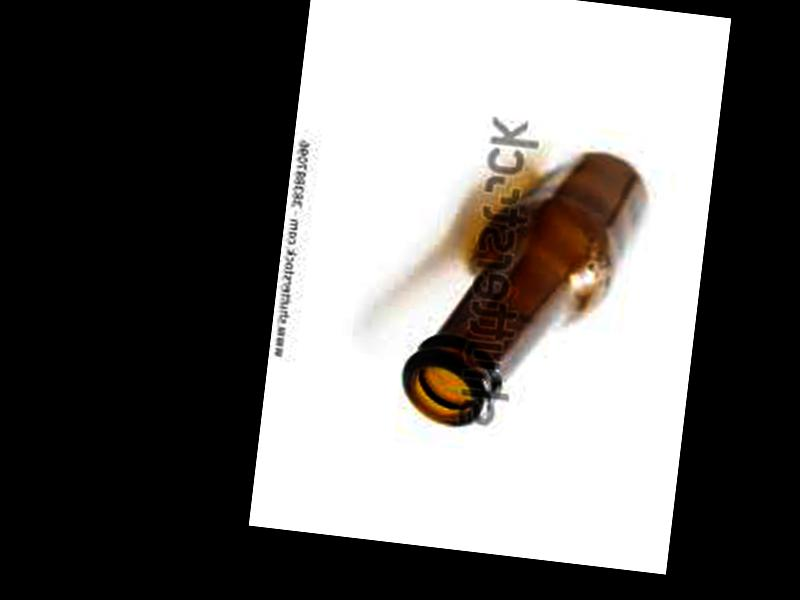Beer: (395, 132, 651, 446)
